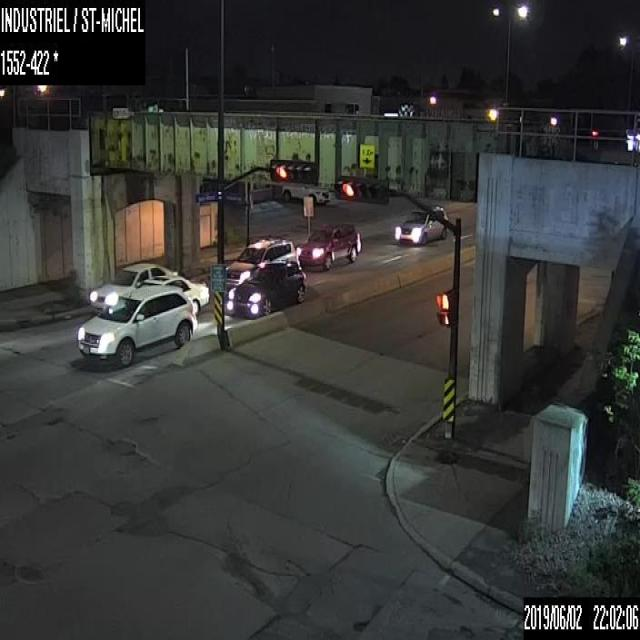vehicle: (76, 288, 196, 367), (224, 260, 306, 320), (89, 262, 178, 314), (222, 237, 294, 289), (131, 275, 209, 317), (294, 222, 360, 269), (393, 203, 449, 247), (280, 181, 331, 203)
